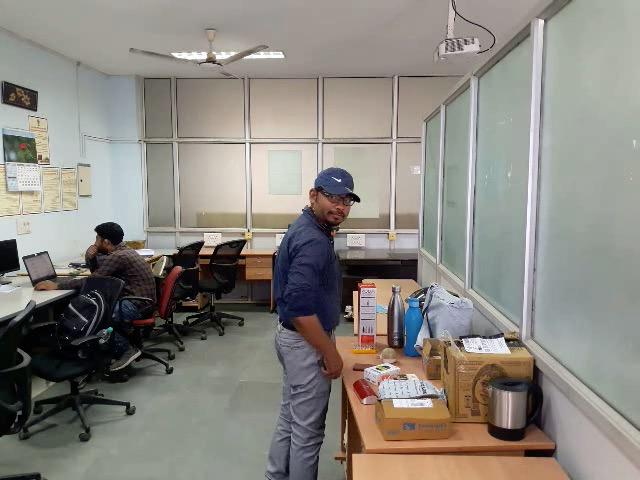shoplifting: (229, 294, 389, 451)
